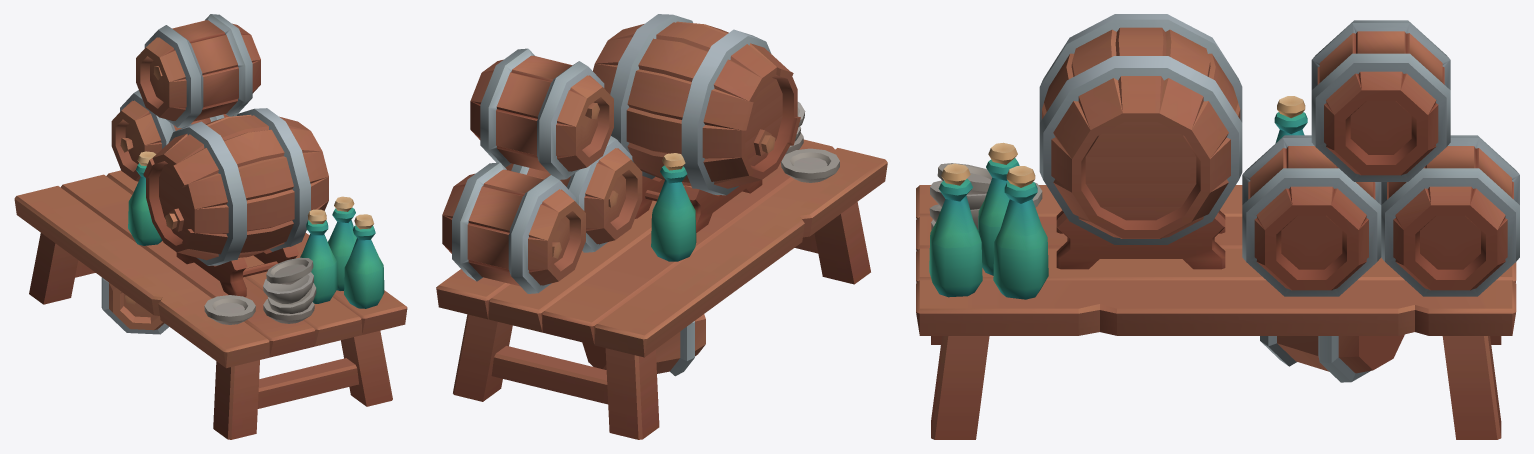
Rendered from kaykit-dungeon-remastered-table-long-decorated-c-gltf.glb.
3 views of the same model, side by side, from view 1: azimuth 30°, elevation 25°; view 2: azimuth 150°, elevation 25°; view 3: azimuth 270°, elevation 25° (orthographic). The views are drawn at different scales.
Visible parts, largest first — view 1: table_long_decorated_C; view 2: table_long_decorated_C; view 3: table_long_decorated_C.
Boxes of the visible parts, bbox=[...] form: table_long_decorated_C: bbox=[14, 14, 407, 439]; table_long_decorated_C: bbox=[436, 14, 887, 439]; table_long_decorated_C: bbox=[916, 14, 1519, 439].
Bounding box in the file's own units: 2 × 2.77 × 4.03.
1 material, 1 textured.
